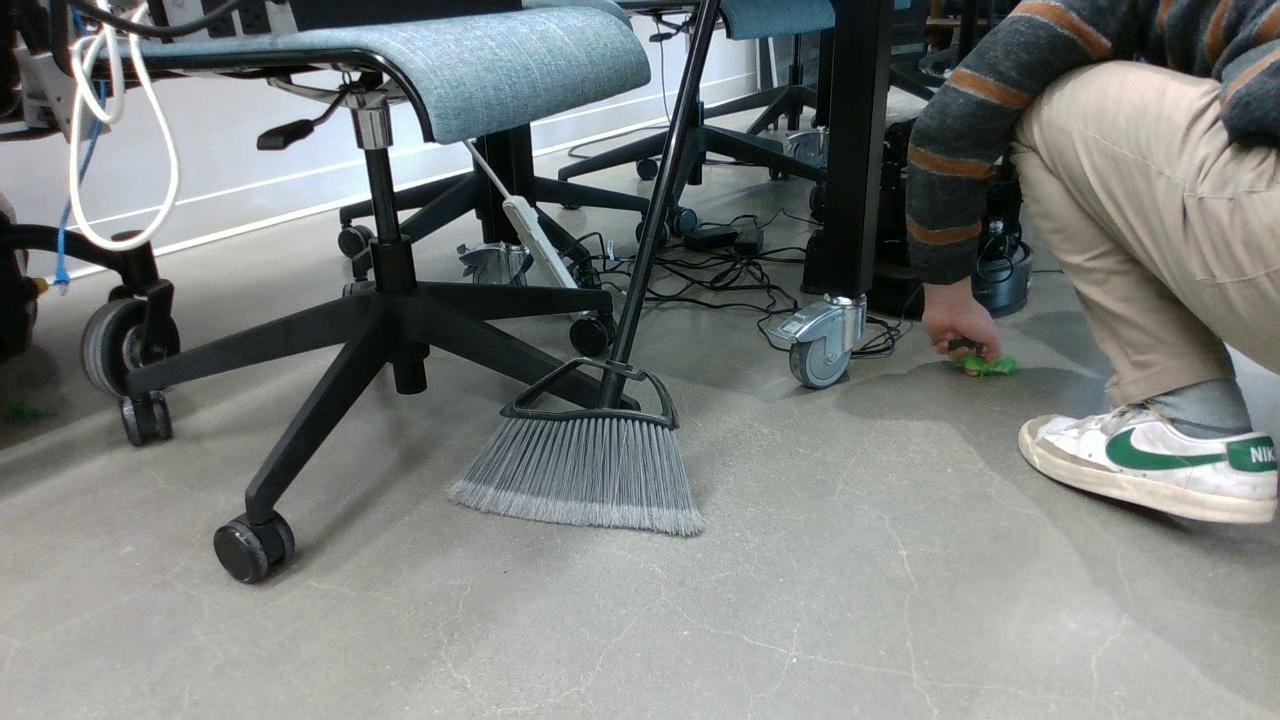grasshopper: (962, 354, 1022, 377)
